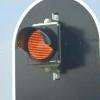traffic lights: (16, 22, 62, 66)
